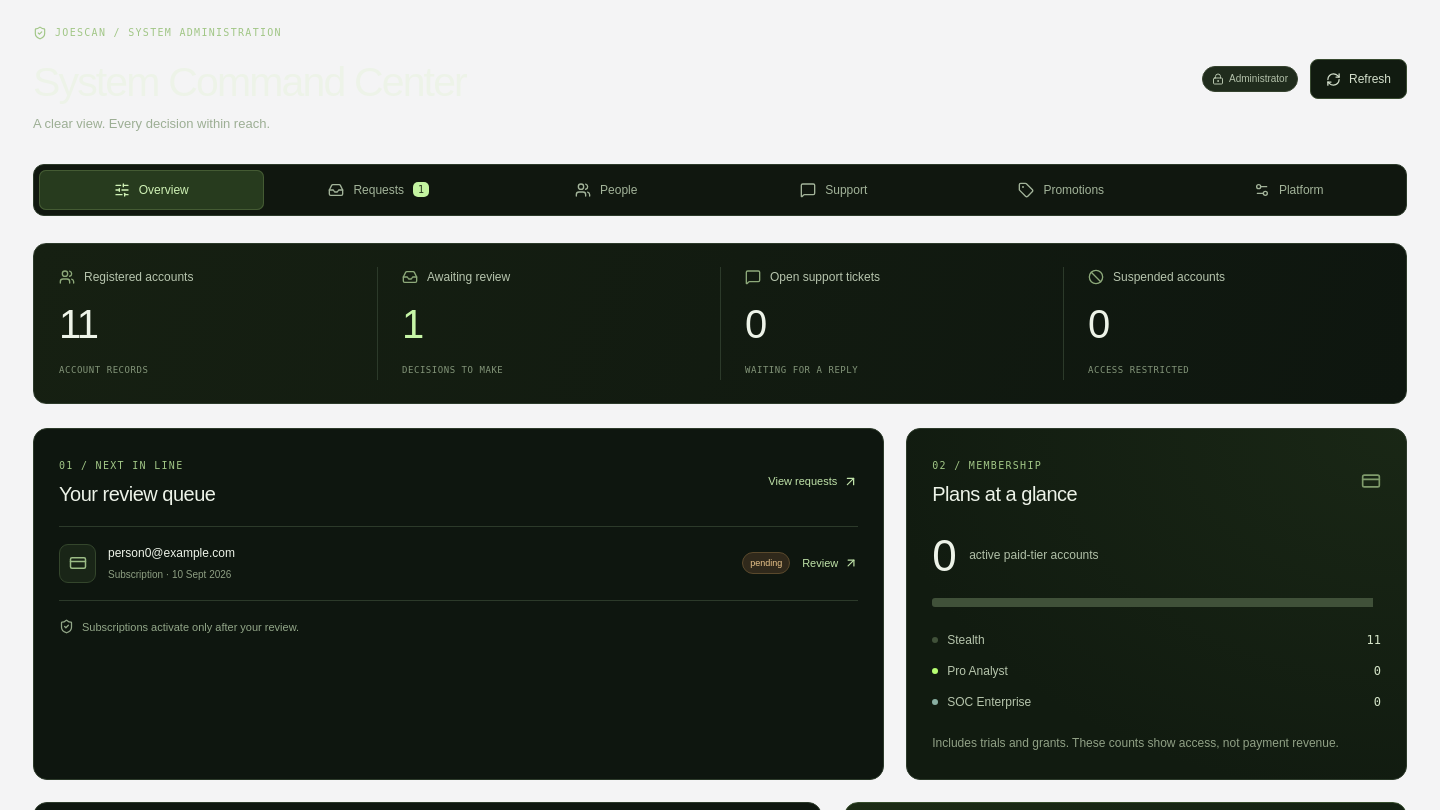
Test: saves settings only after review and preserves a failed save
Click the button "Platform". click: (1289, 190)
box: 1176,170 -> 1401,210
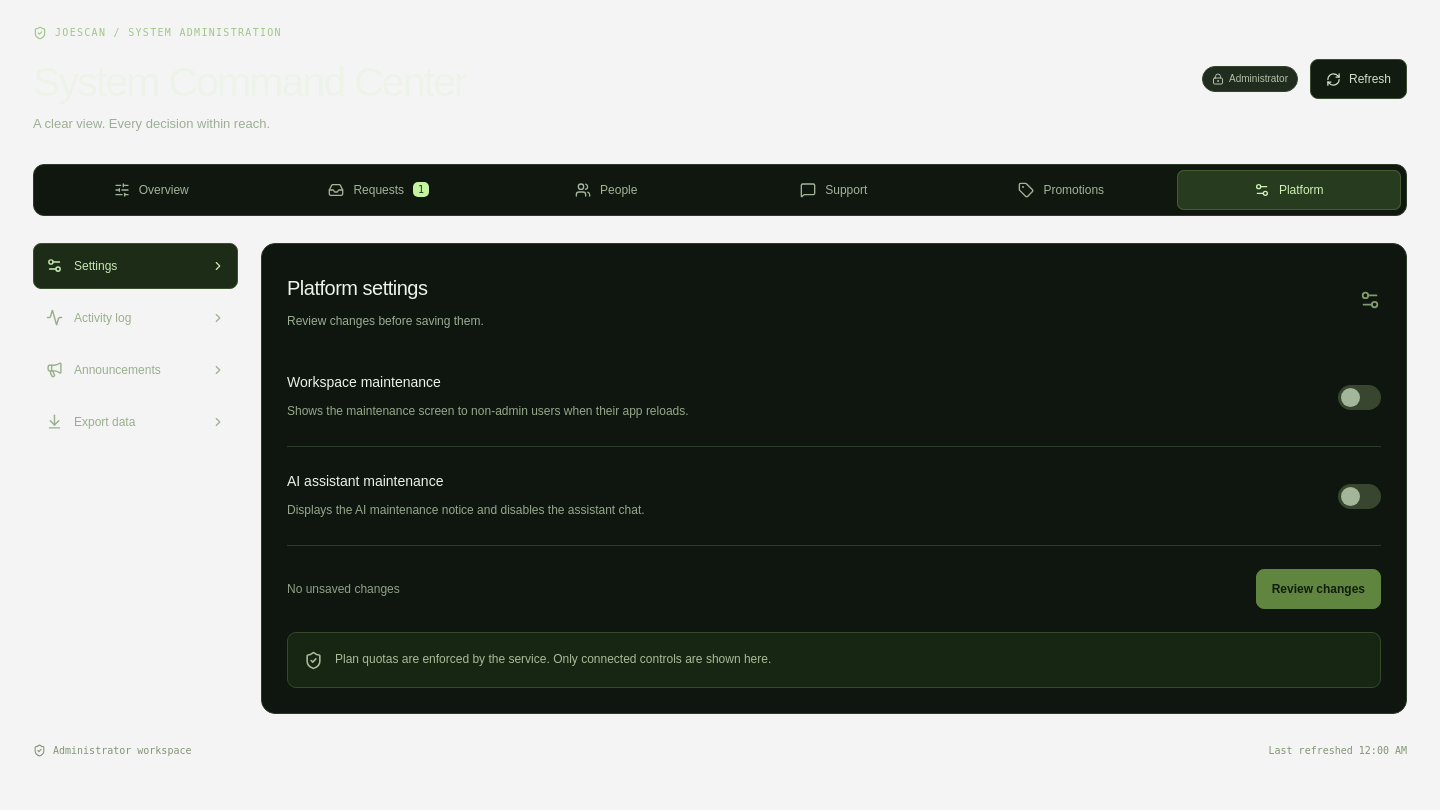
Click the switch named "Workspace maintenance". click: (1360, 397)
box: 1338,384 -> 1381,410
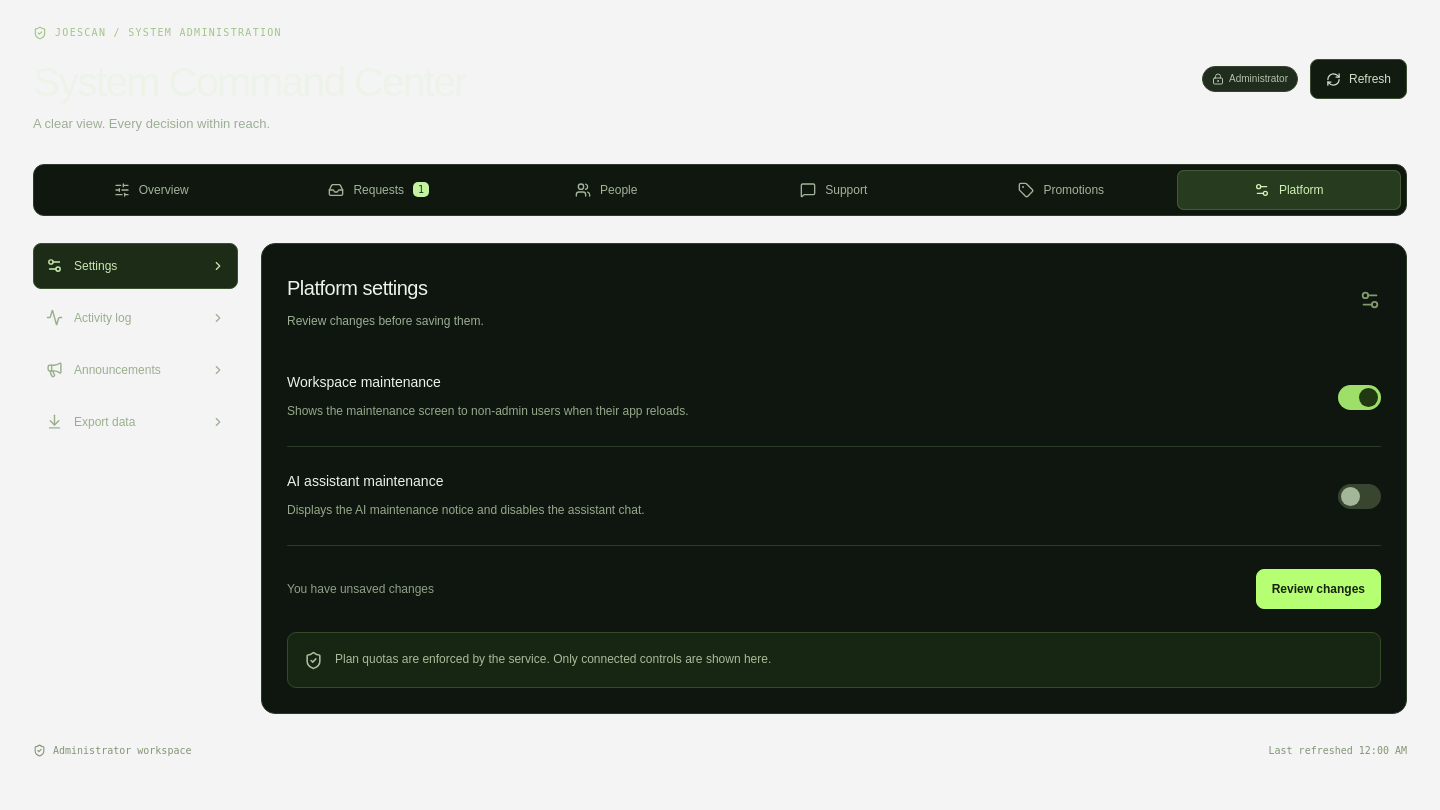
Click the button "Review changes". click: (1318, 589)
box: 1256,569 -> 1381,609
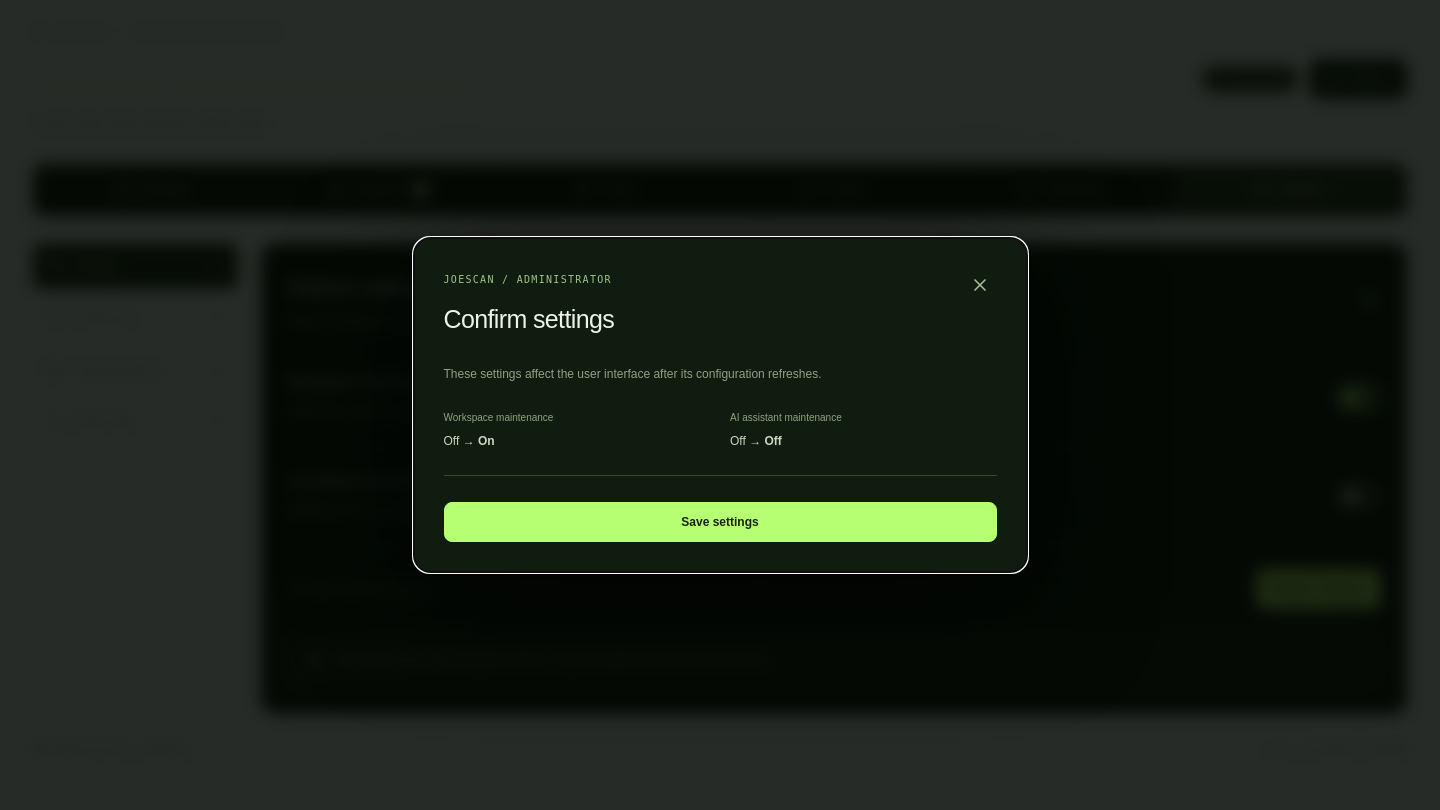
Click the button "Save settings". click: (720, 522)
box: 444,502 -> 996,542
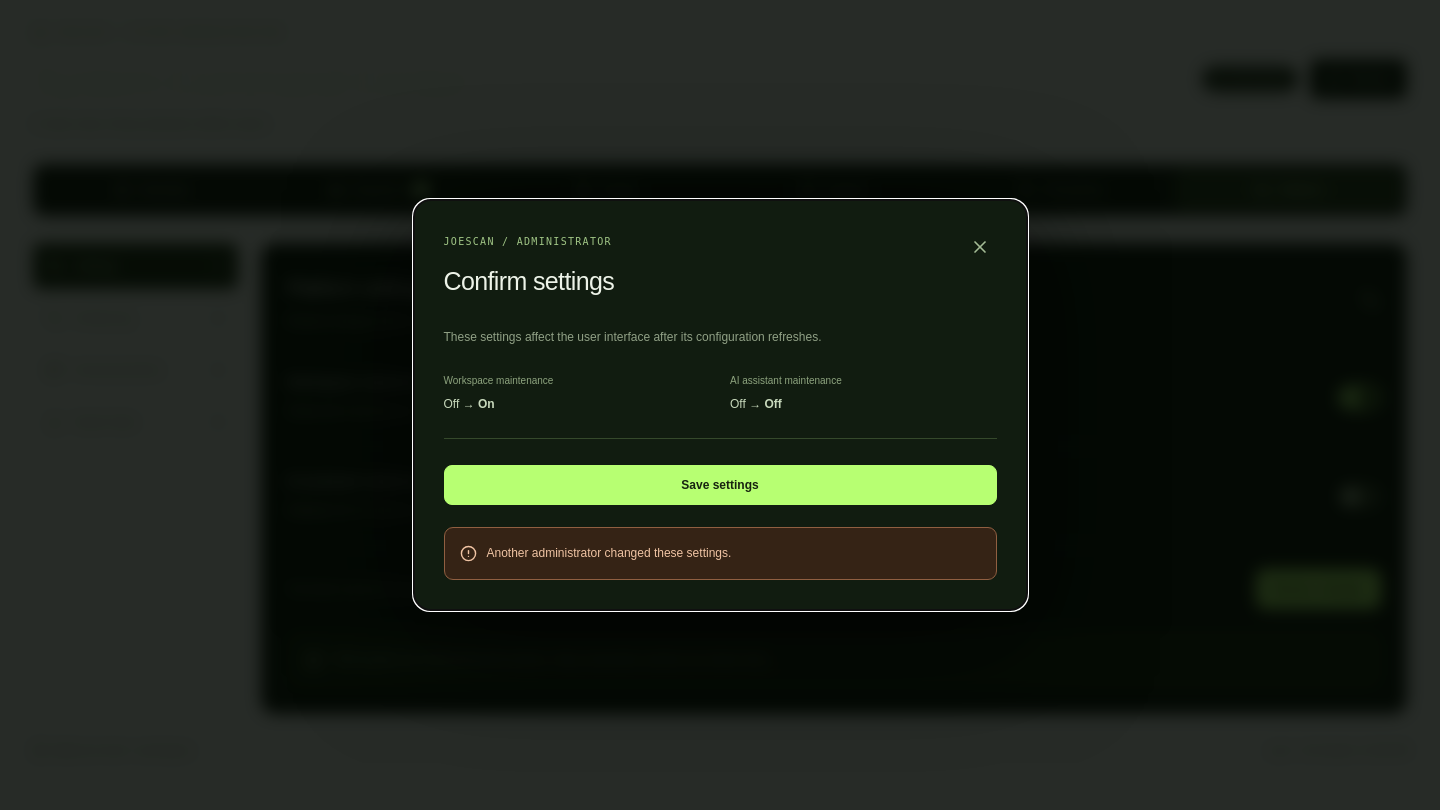
Expected: the dialog is shown, 412,199 -> 1028,611
Expected: the message "Another administrator changed these settings." is shown, 444,527 -> 996,580
